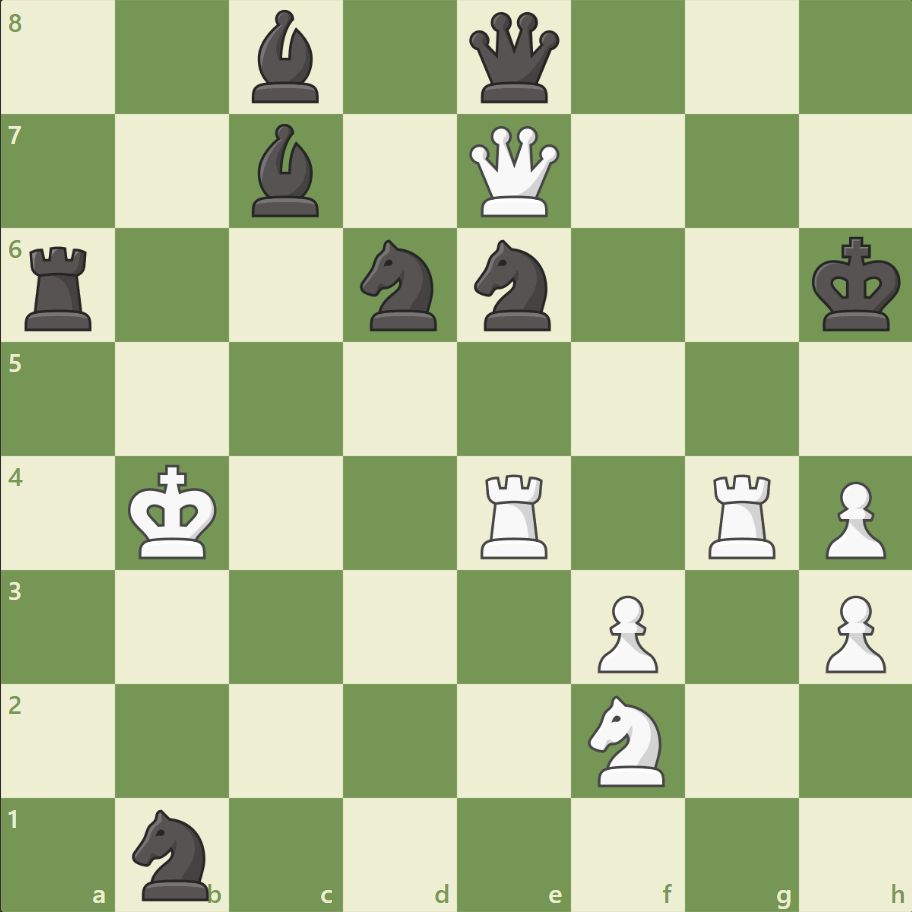K: (124, 458, 224, 566)
N: (579, 688, 676, 791)
P: (815, 473, 889, 564), (588, 586, 662, 677), (815, 586, 889, 677)
Q: (464, 122, 563, 222)
R: (473, 466, 556, 563), (700, 466, 783, 563)
b: (244, 6, 328, 109), (244, 120, 328, 222)
k: (806, 231, 906, 339)
n: (351, 234, 449, 337), (124, 802, 222, 904), (465, 234, 562, 337)
q: (464, 9, 563, 108)
r: (19, 239, 102, 336)
